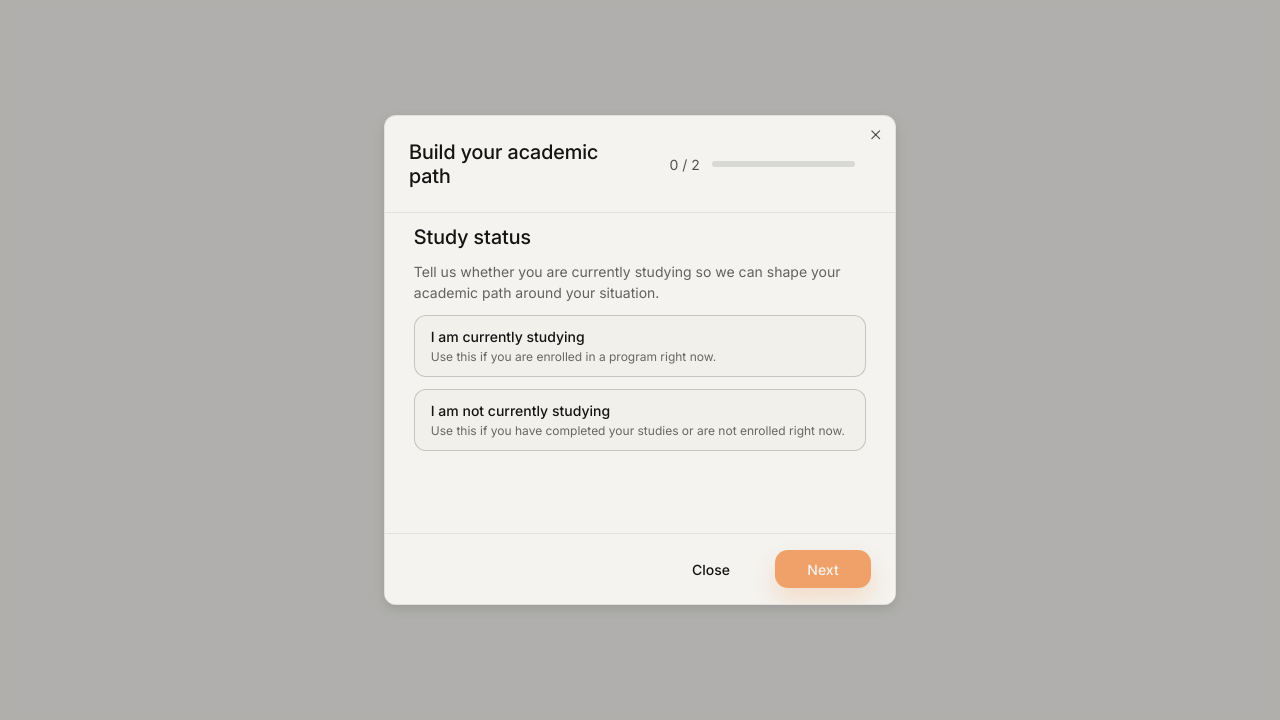
Test: SchoolPathModal › goes back to the previous step and resets the current step value
The width and height of the screenshot is (1280, 720).
Click the button with class "option" that starts with "I am currently studying" at x=508, y=337, box [414, 315, 866, 377]
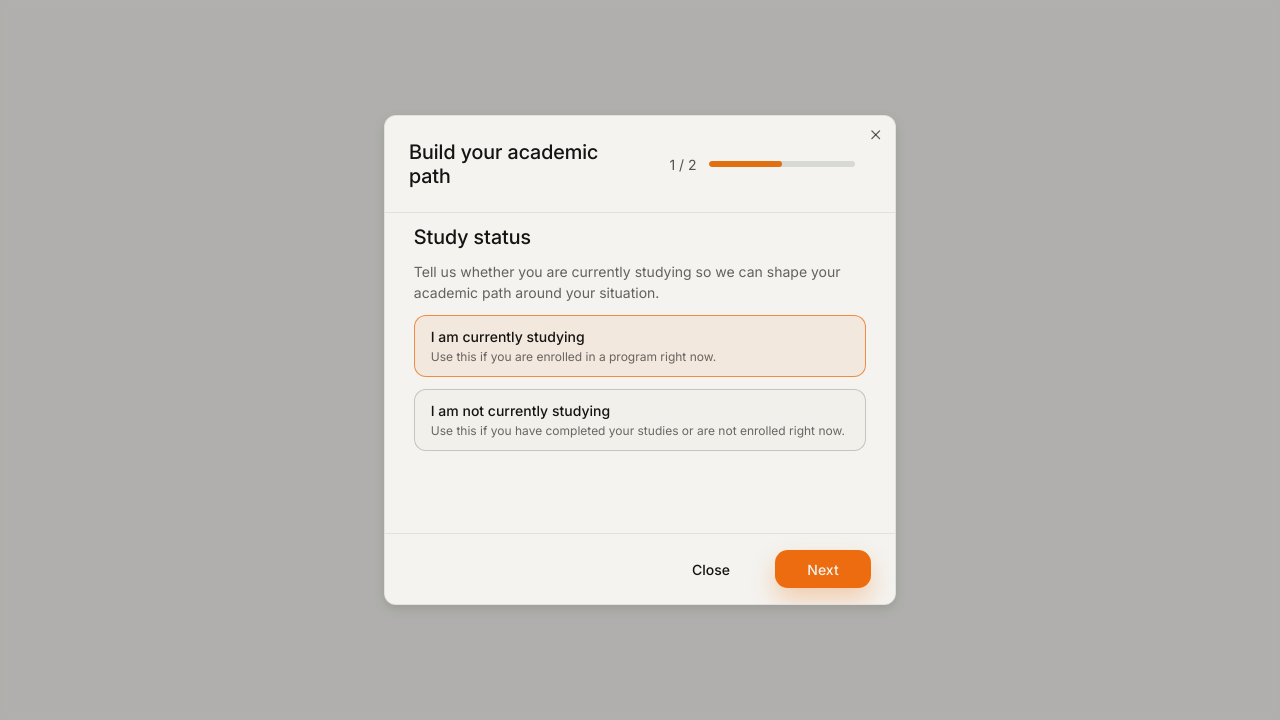
Click the button with class "next-button" at x=823, y=569, box [775, 550, 871, 588]
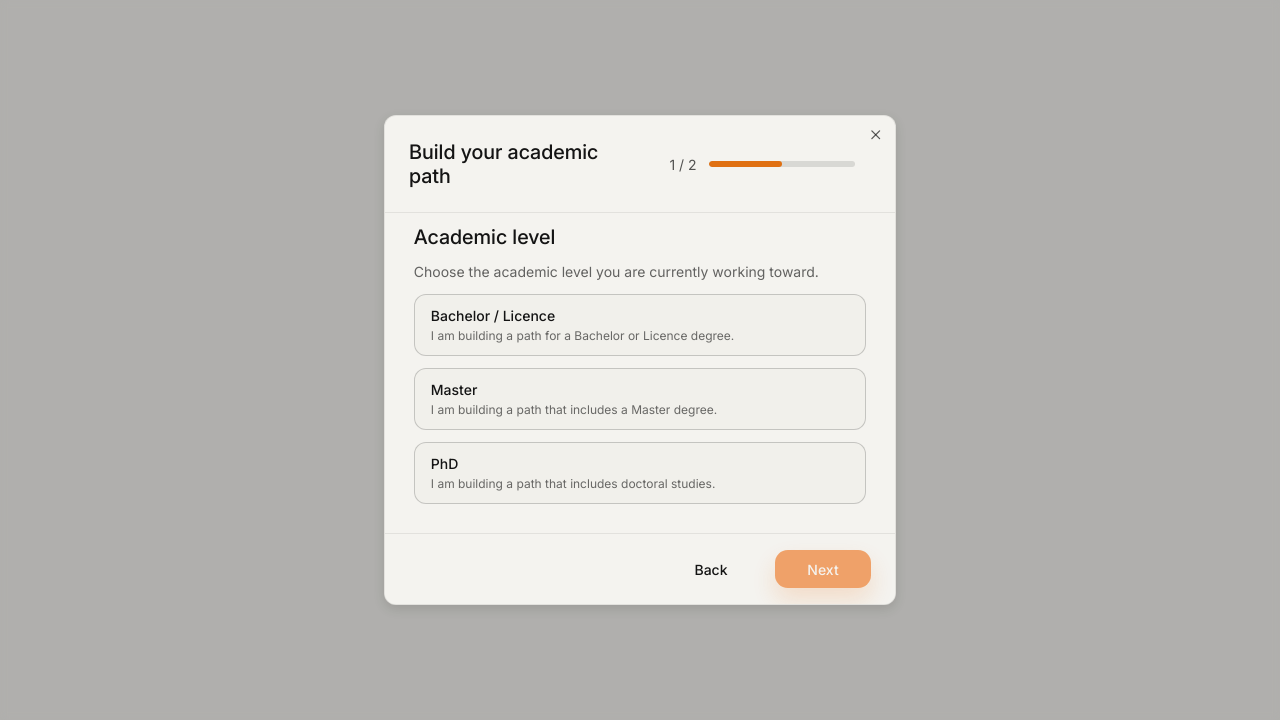
Click the button with class "option" that starts with "Bachelor / Licence" at x=493, y=316, box [414, 294, 866, 356]
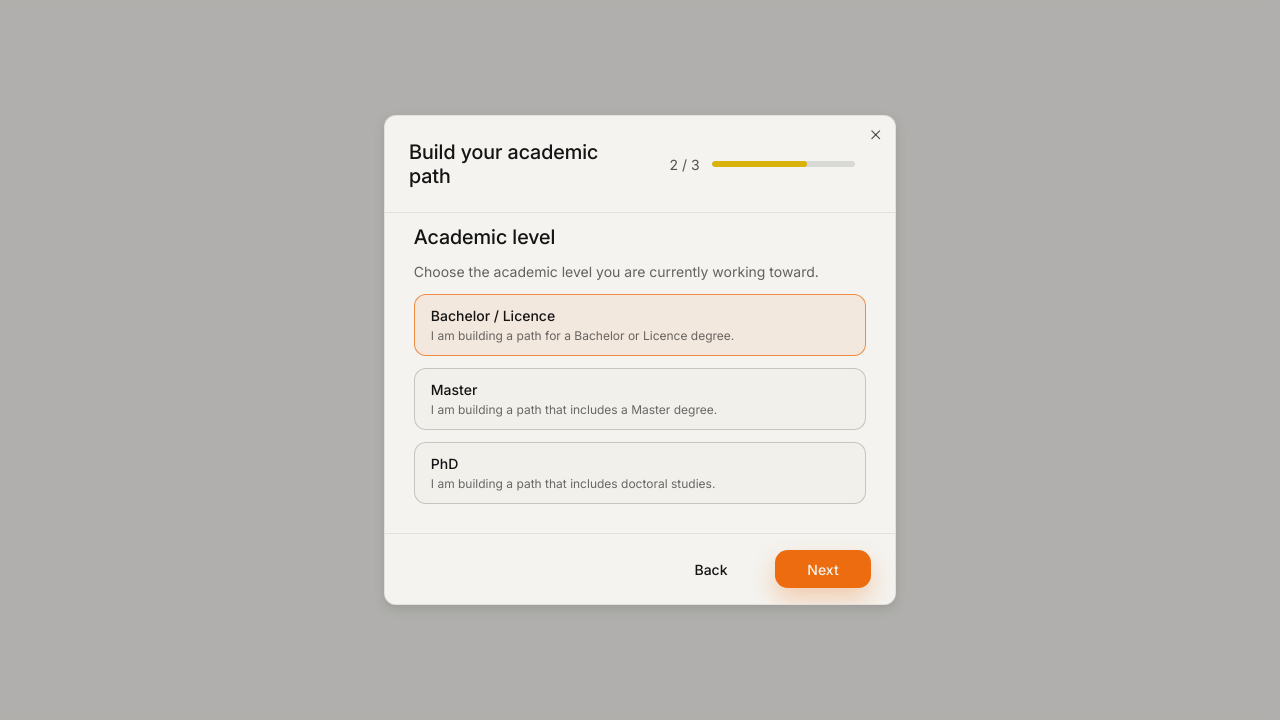
Expected: the button with class "next-button" is enabled, [775, 550, 871, 588]
Click the button with class "back-button" at x=711, y=569, box [663, 550, 759, 588]
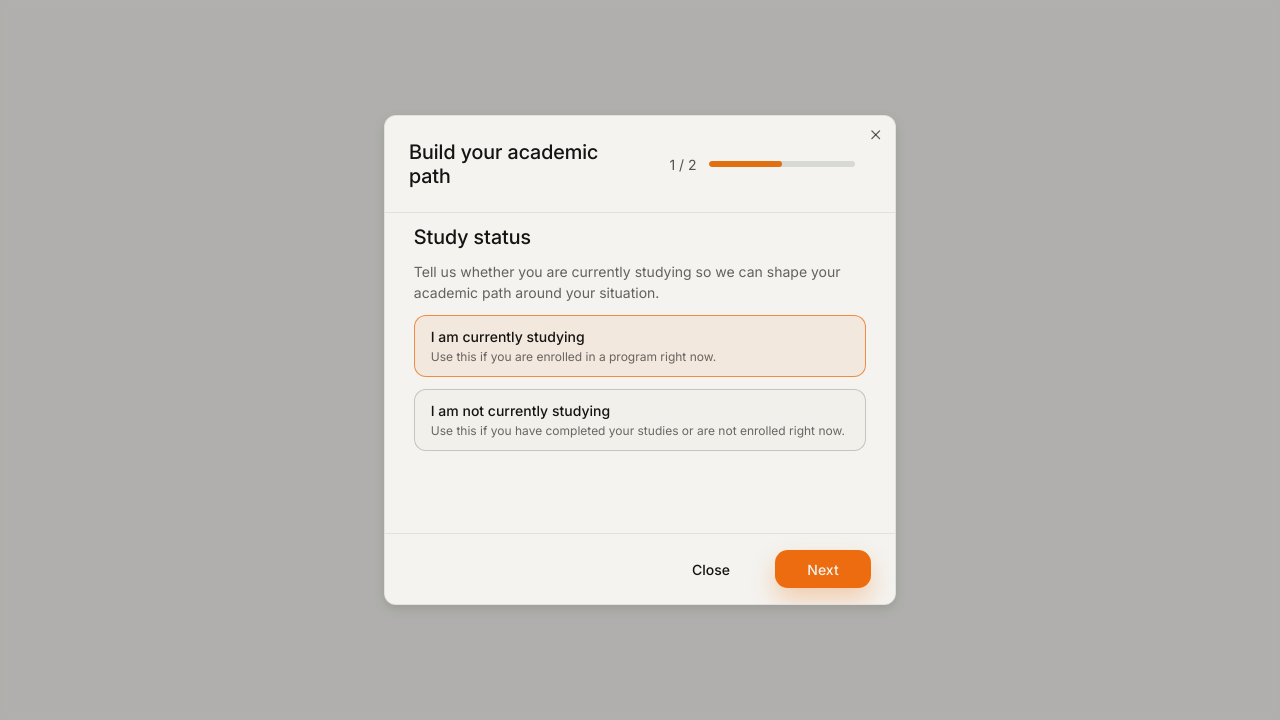
Expected: the text "Study status" is shown, [414, 225, 531, 249]
Click the button with class "next-button" at x=823, y=569, box [775, 550, 871, 588]
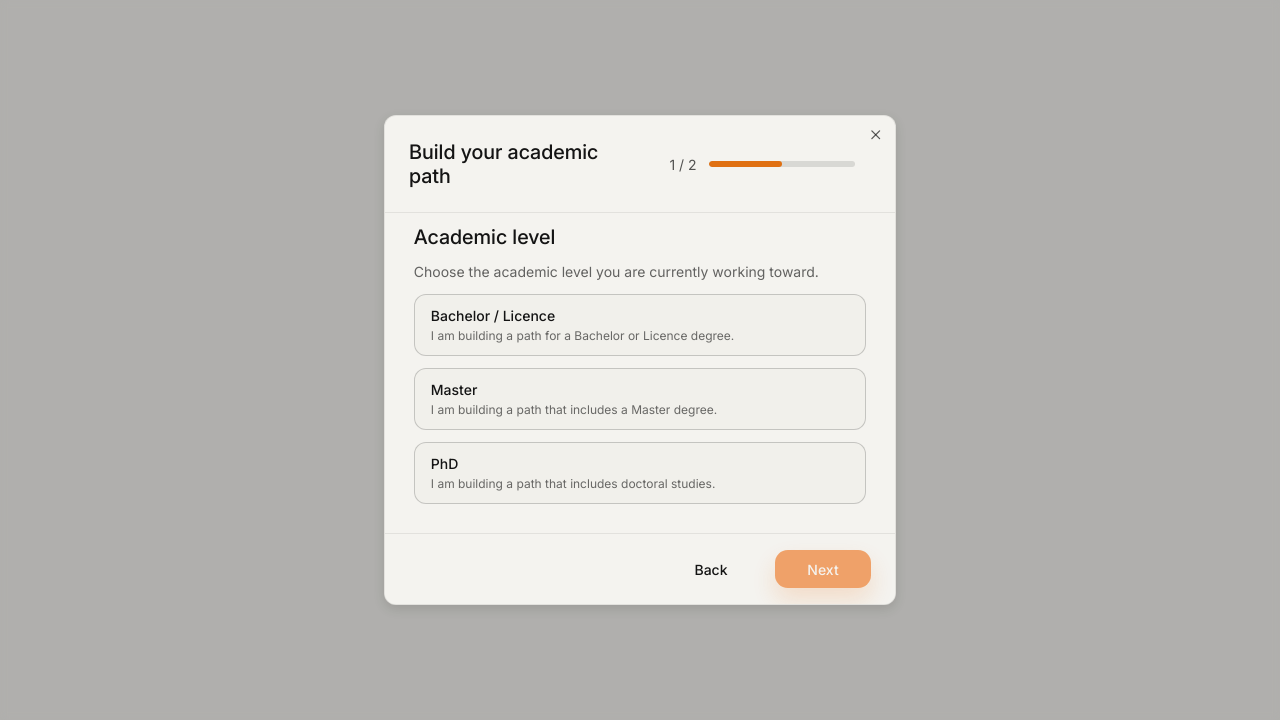
Expected: the text "Academic level" is shown, [414, 225, 555, 249]
Expected: the button with class "next-button" is disabled, [775, 550, 871, 588]
